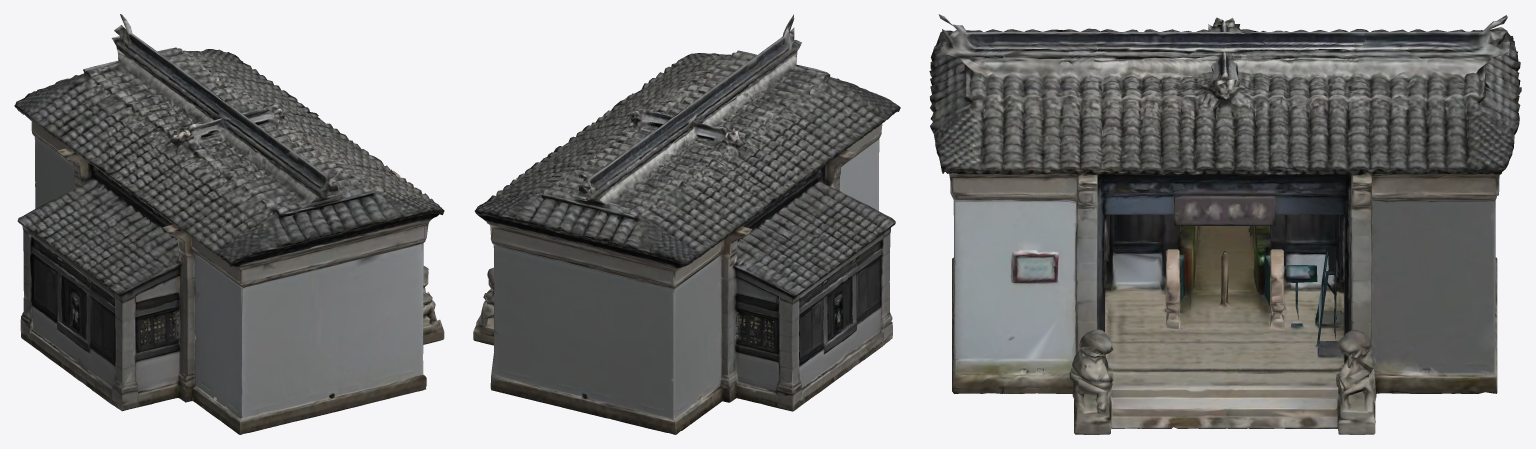
File: preview.3a1b0f52d3fc.glb
3 views of the same model, side by side, from view 1: azimuth 30°, elevation 25°; view 2: azimuth 150°, elevation 25°; view 3: azimuth 270°, elevation 25° (orthographic). The views are drawn at different scales.
Visible parts, largest first — view 1: tripo_node_4a441574-6ca2-4ec9-9f5f-f1dc3ee810c4; view 2: tripo_node_4a441574-6ca2-4ec9-9f5f-f1dc3ee810c4; view 3: tripo_node_4a441574-6ca2-4ec9-9f5f-f1dc3ee810c4.
Boxes of the visible parts, x1=… form: tripo_node_4a441574-6ca2-4ec9-9f5f-f1dc3ee810c4: x1=14, y1=14, x2=444, y2=434; tripo_node_4a441574-6ca2-4ec9-9f5f-f1dc3ee810c4: x1=473, y1=14, x2=900, y2=434; tripo_node_4a441574-6ca2-4ec9-9f5f-f1dc3ee810c4: x1=929, y1=14, x2=1521, y2=434.
Bounding box in the file's own units: 0.7999 × 0.5867 × 0.9791.
Materials: 1 (1 with a texture image).
